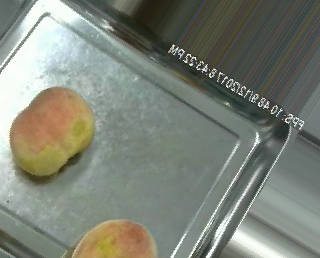Peach: (10, 86, 96, 177), (69, 220, 157, 258)
